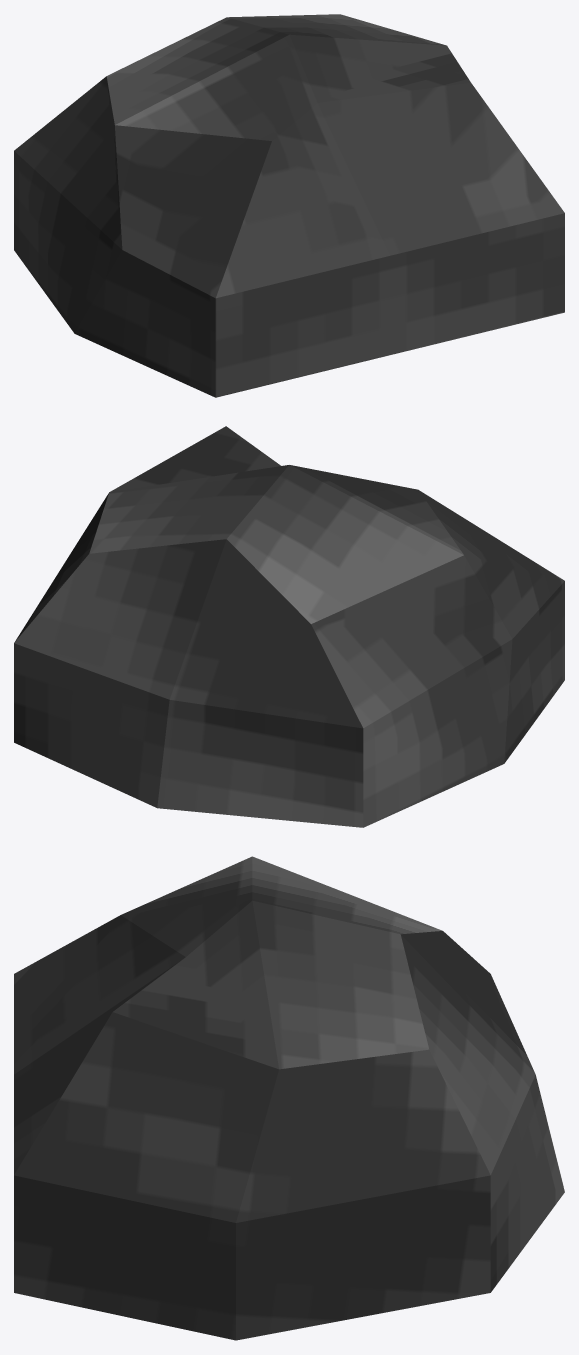
The model's file is Boulder_2.glb.
3 renders of one model, top to bottom at view 1: azimuth 30°, elevation 25°; view 2: azimuth 150°, elevation 25°; view 3: azimuth 270°, elevation 25°, orthographic. The views are drawn at different scales.
Visible parts, largest first — view 1: Cube; view 2: Cube; view 3: Cube.
Boxes of the visible parts, bbox=[...] form: Cube: bbox=[14, 14, 564, 397]; Cube: bbox=[14, 426, 564, 827]; Cube: bbox=[14, 856, 564, 1340].
Size of the model in its own units: 2.45 by 1.47 by 2.31.
Materials: 1 (1 with a texture image).
